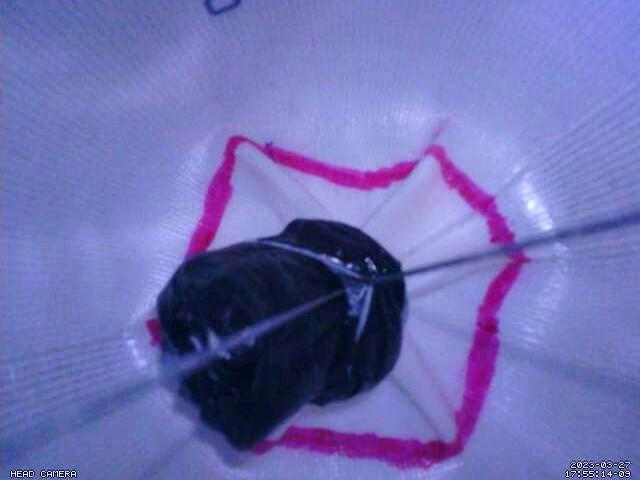red-circle: (145, 134, 530, 470)
